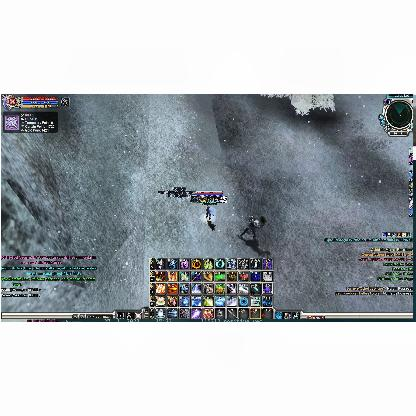caliana: (238, 216, 266, 240)
